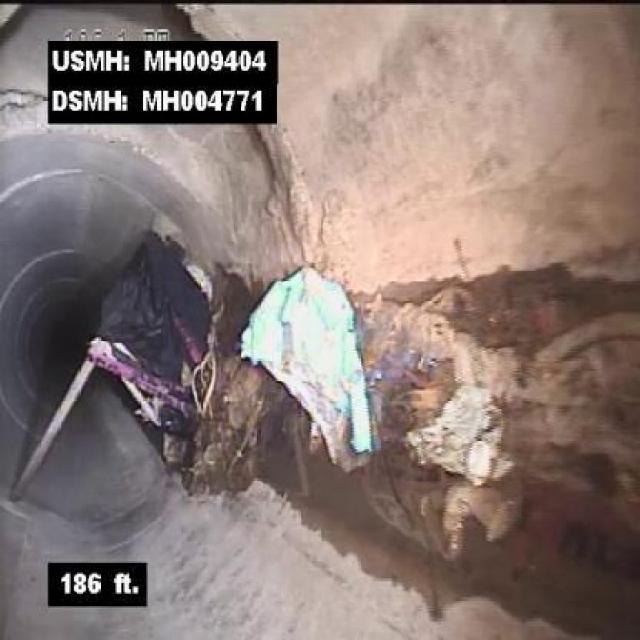Obstacle: (104, 229, 214, 449)
Utility intrusion: (5, 357, 97, 511)
